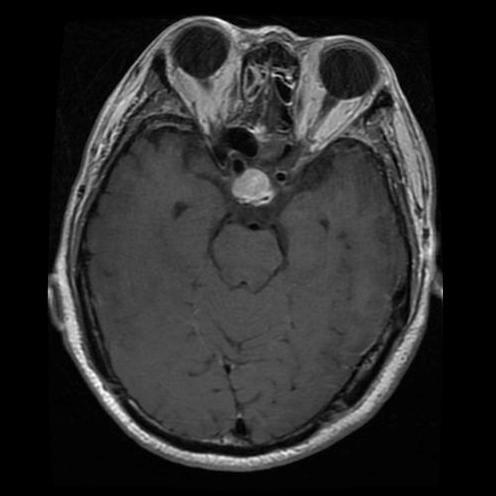Tumour-Pituitary: (229, 168, 281, 214)
